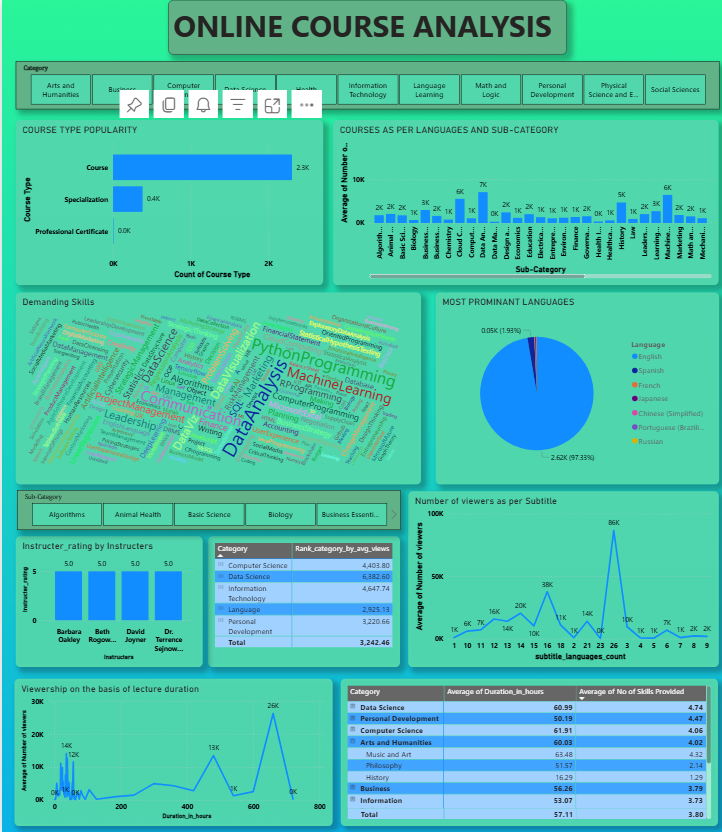

The page's visual inventory and layout, read from the dashboard file:
{"tool":"powerbi","page":{"name":"Page 1","canvas":[1300,1500],"ordinal":0},"visuals":[{"type":"textbox","box":[298.6,0,716.7,98.6],"z":0},{"type":"slicer","fields":{"Values":["Online_Courses.Category"]},"box":[23.6,111.1,1265.3,86.1],"z":1000},{"type":"clusteredBarChart","title":"COURSE TYPE POPULARITY","fields":{"Category":["Online_Courses.Course Type"],"Y":["CountNonNull(Online_Courses.Course Type)"]},"box":[24.3,215.7,552.9,297.1],"z":2000},{"type":"columnChart","title":"COURSES AS PER LANGUAGES AND SUB-CATEGORY","fields":{"Category":["Online_Courses.Sub-Category","Online_Courses.Language"],"Y":["Avg(Online_Courses.Number of viewers)"]},"box":[595.7,215.7,692.9,297.1],"z":3000},{"type":"WordCloud1447959067750","title":"Demanding Skills","fields":{"Category":["Online_Courses.Skills"]},"box":[23.6,525,729.2,344.4],"z":4000},{"type":"pieChart","title":"MOST PROMINANT LANGUAGES","fields":{"Category":["Online_Courses.Language"],"Y":["CountNonNull(Online_Courses.Course Type)"]},"box":[779.2,525,509.7,344.4],"z":5000},{"type":"pivotTable","fields":{"Rows":["Online_Courses.Category","Online_Courses.Language"],"Values":["Online_Courses.Rank_category_by_avg_views"]},"box":[371.2,963.8,345,235],"z":6000},{"type":"lineChart","title":"Number of viewers as per Subtitle ","fields":{"Category":["Online_Courses.subtitle_languages_count"],"Y":["Avg(Online_Courses.Number of viewers)"]},"box":[730,882.5,558.8,316.2],"z":7000},{"type":"columnChart","fields":{"Category":["teacher.Instructers"],"Y":["teacher.Instructer_rating"]},"box":[23.8,963.8,336.2,235],"z":8000},{"type":"slicer","fields":{"Values":["Online_Courses.Sub-Category"]},"box":[26,882,690,72],"z":9000},{"type":"lineChart","title":"Viewership on the basis of lecture duration ","fields":{"Category":["Online_Courses.Duration_in_hours"],"Y":["Avg(Online_Courses.Number of viewers)"]},"box":[23.3,1220,571.7,265],"z":10000},{"type":"pivotTable","fields":{"Rows":["Online_Courses.Category","Online_Courses.Sub-Category"],"Values":["Avg(Online_Courses.Duration_in_hours)","Avg(Online_Courses.No of Skills Provided)"]},"box":[610,1220,678.3,265],"z":11000}]}

Visuals, with their boxes in screenshot pixels (x1, y1, x2, y2):
textbox: (x1=156, y1=0, x2=563, y2=49)
slicer - Online_Courses.Category: (x1=0, y1=57, x2=718, y2=105)
"COURSE TYPE POPULARITY" clusteredBarChart: (x1=1, y1=116, x2=314, y2=284)
"COURSES AS PER LANGUAGES AND SUB-CATEGORY" columnChart: (x1=325, y1=116, x2=718, y2=284)
"Demanding Skills" WordCloud1447959067750: (x1=0, y1=291, x2=414, y2=487)
"MOST PROMINANT LANGUAGES" pieChart: (x1=429, y1=291, x2=718, y2=487)
pivotTable - Online_Courses.Category x Online_Courses.Language: (x1=198, y1=540, x2=393, y2=673)
"Number of viewers as per Subtitle " lineChart: (x1=401, y1=494, x2=718, y2=673)
columnChart - teacher.Instructers x teacher.Instructer_rating: (x1=0, y1=540, x2=191, y2=673)
slicer - Online_Courses.Sub-Category: (x1=2, y1=494, x2=393, y2=535)
"Viewership on the basis of lecture duration " lineChart: (x1=0, y1=685, x2=324, y2=831)
pivotTable - Online_Courses.Category x Online_Courses.Sub-Category: (x1=333, y1=685, x2=718, y2=831)
